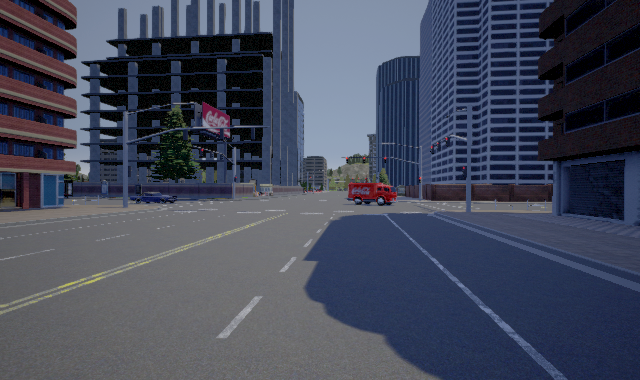traffic_light: (462, 166, 467, 178), (445, 137, 450, 147), (436, 142, 441, 151), (430, 145, 434, 154), (200, 148, 204, 156), (210, 151, 213, 158), (220, 154, 223, 160), (384, 157, 386, 163), (363, 157, 365, 163), (346, 157, 348, 163)
vehicle: (347, 183, 398, 206), (130, 192, 178, 204)
